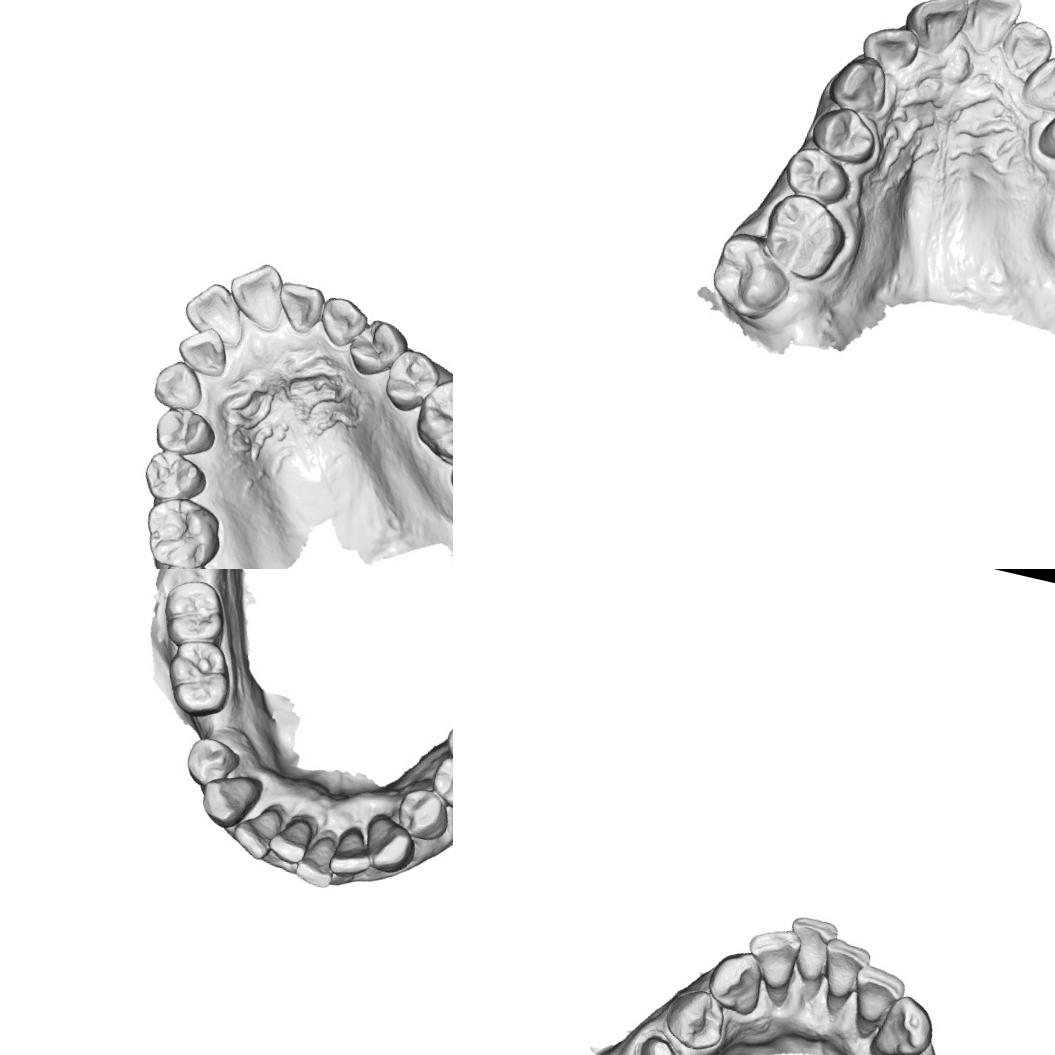canine: (702, 943, 770, 1020), (195, 766, 266, 836), (824, 48, 893, 120), (867, 988, 939, 1055), (356, 810, 422, 879), (313, 289, 374, 354), (148, 355, 210, 415), (1017, 48, 1055, 120)
crown: (630, 1029, 685, 1055)
incisor: (178, 276, 253, 352), (221, 255, 293, 334), (897, 0, 974, 62), (951, 0, 1025, 63), (740, 921, 803, 994), (994, 13, 1055, 87), (780, 912, 841, 986), (846, 960, 910, 1030), (817, 932, 874, 1004), (227, 800, 287, 865), (171, 320, 234, 380), (270, 278, 330, 339), (858, 18, 922, 74), (325, 823, 379, 884), (291, 830, 342, 891), (265, 813, 316, 868)
molar: (754, 186, 853, 287), (704, 226, 800, 328), (157, 630, 241, 722), (136, 491, 230, 569), (155, 574, 234, 656), (408, 371, 453, 468)
premolar: (804, 100, 884, 170), (778, 142, 856, 210), (341, 313, 414, 384), (660, 984, 733, 1055), (379, 344, 446, 418), (138, 446, 213, 510), (150, 404, 221, 462), (391, 782, 453, 845), (180, 732, 243, 792), (426, 751, 453, 815), (1033, 97, 1055, 171)
